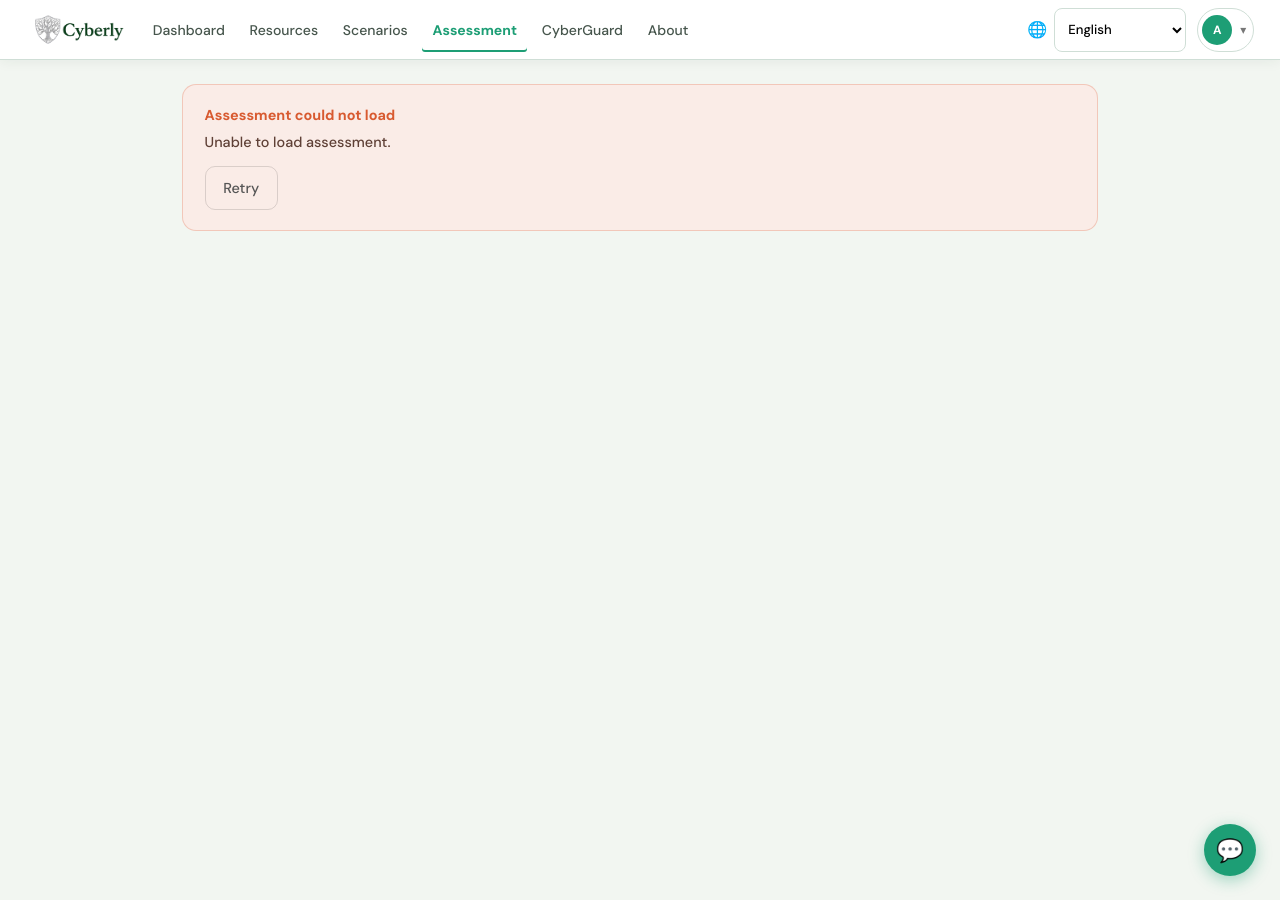
Test: Assessment final visual migration › ordinary retry reloads both authorities and waits for explicit Start after confirmed pending
Expected: the message "Assessment could not load Unable to load assessment. Retry" is shown, [182,84,1098,231]
Click the button "Retry".
click(241, 188)  # box [205,166,278,210]
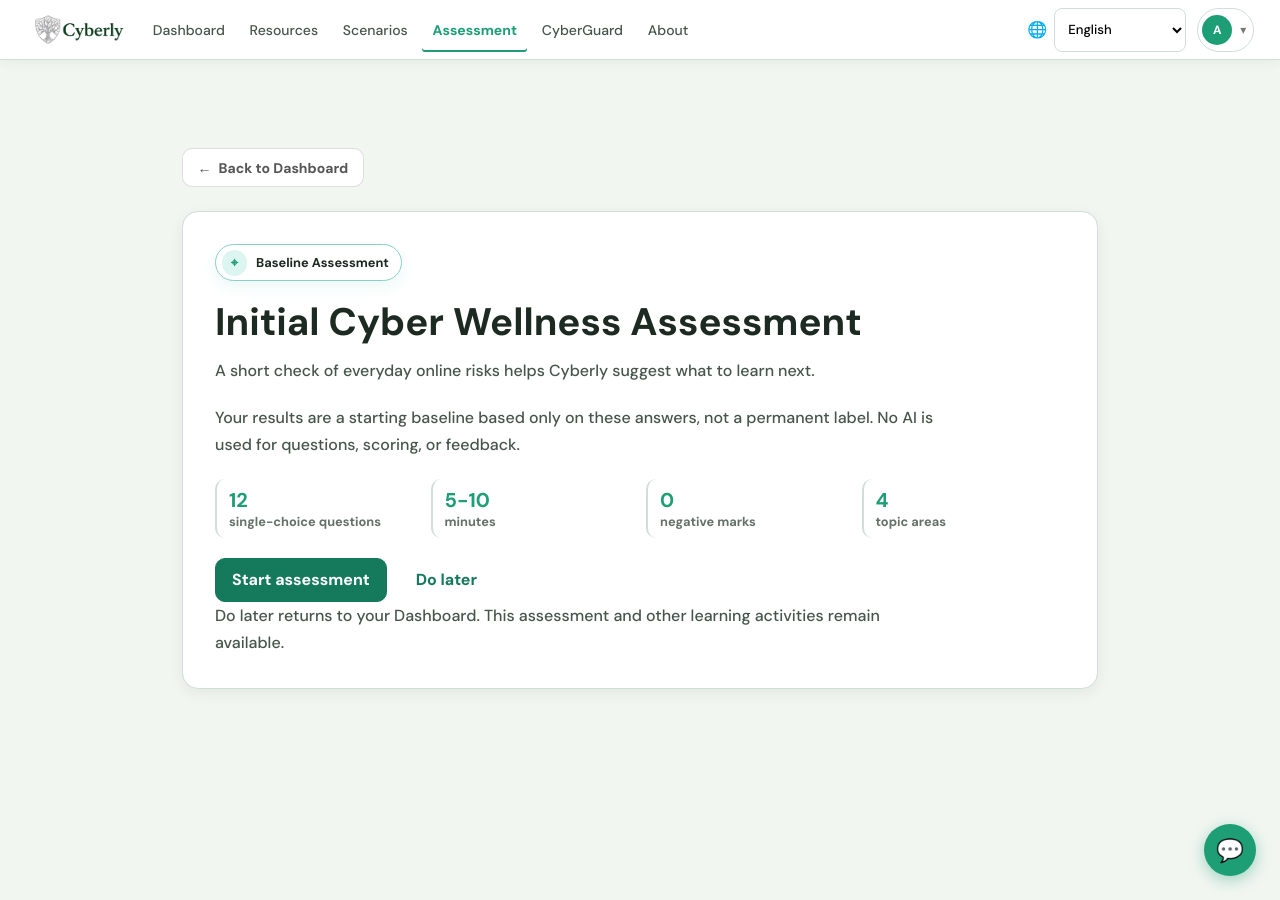
Click the button "Start assessment".
click(301, 580)  # box [215,558,387,602]
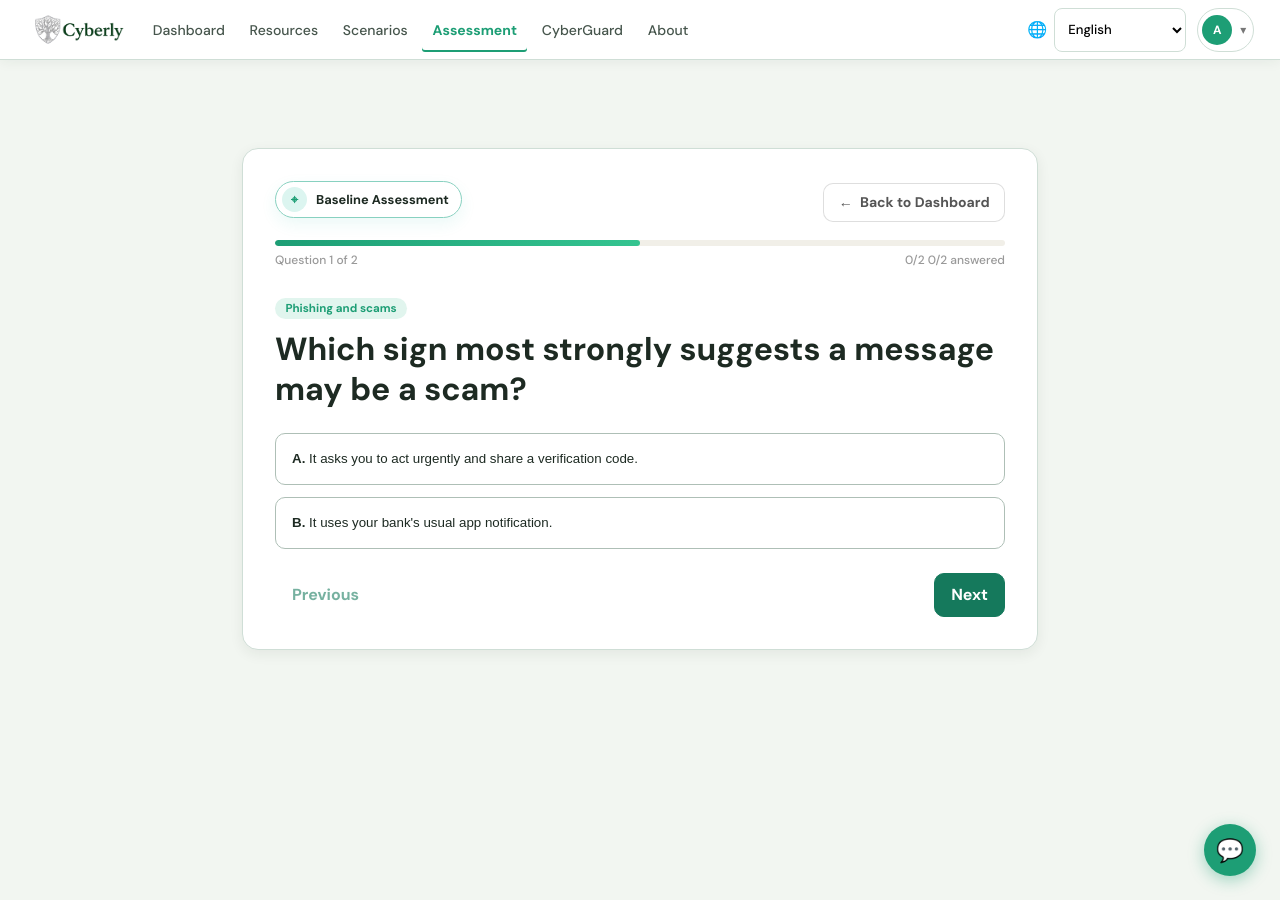
Expected: the heading "Which sign most strongly suggests a message may be a scam?" is shown, [275,329,1005,409]
